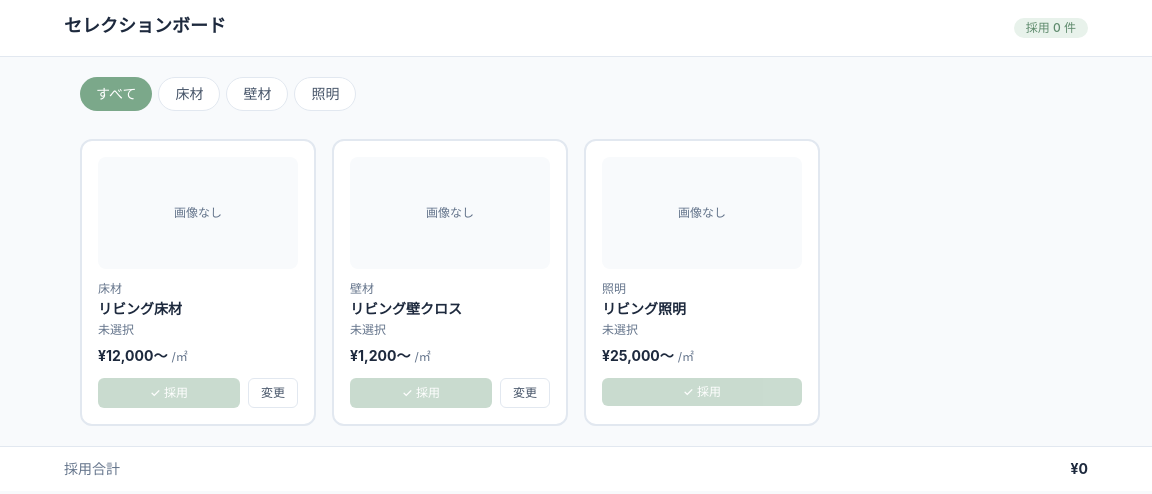
Test: SelectionBoardPage — 既存テスト › hides approve button after approval and shows approved-badge
Click the button with test id "cycle-option-button" below "¥12,000〜" at x=273, y=393, box 248,378 -> 298,408
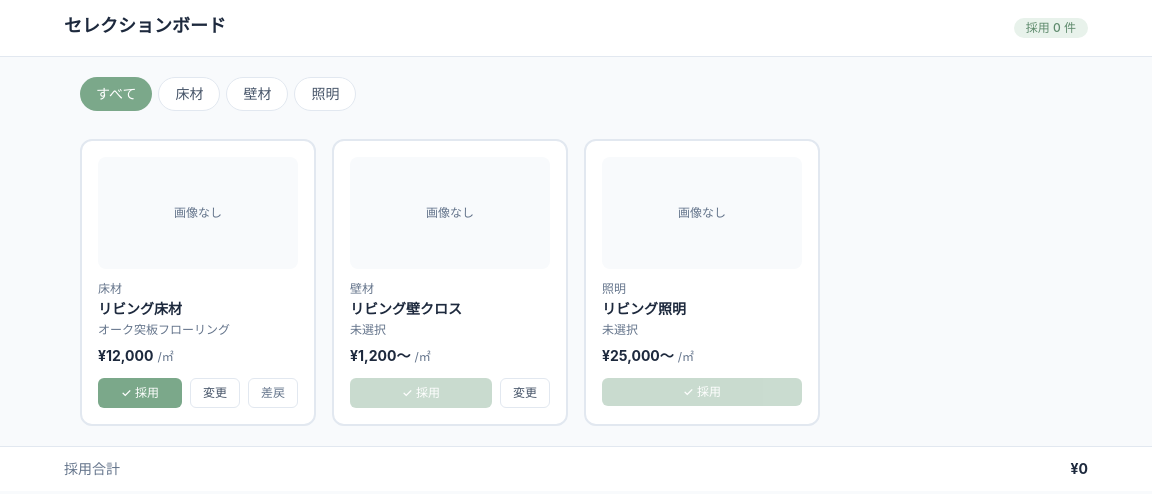
Click the button with test id "approve-button" at x=140, y=393, box 98,378 -> 182,408
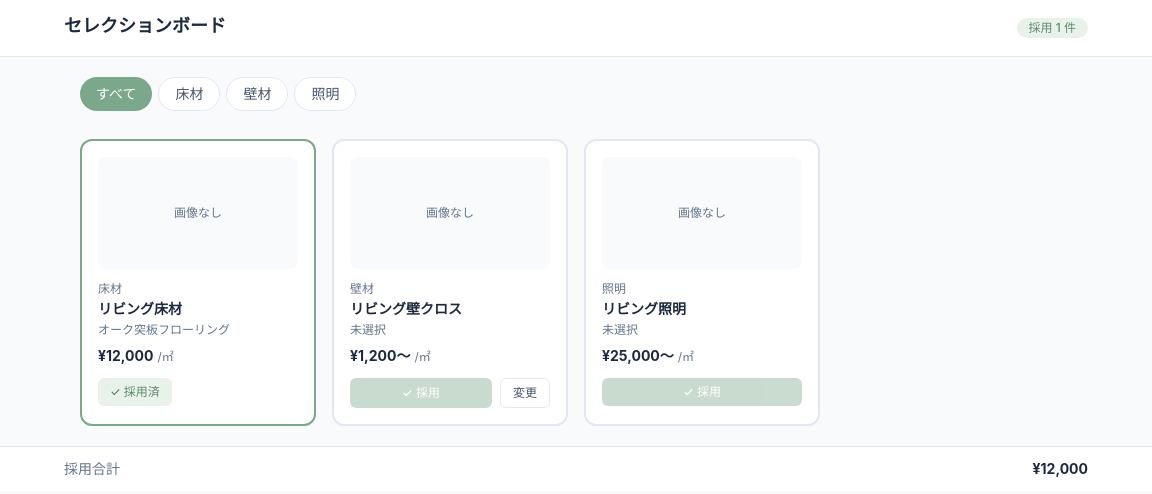
Now the text "✓ 採用済" is shown, box 98,378 -> 172,406
